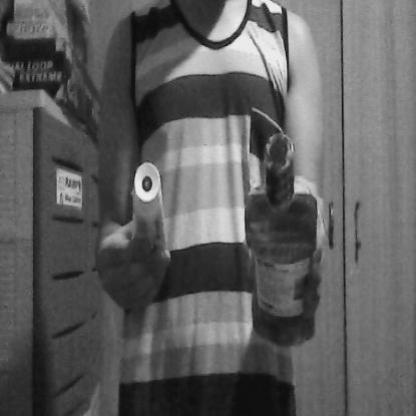Plastic Bottle: (237, 123, 325, 356)
